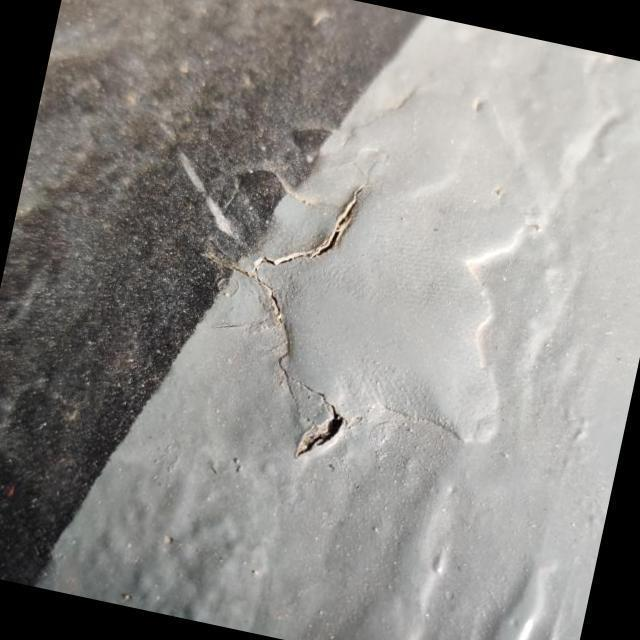Rupture: (147, 144, 411, 480)
